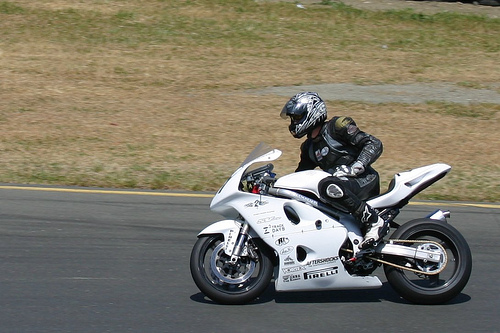helmet: (283, 93, 327, 135)
